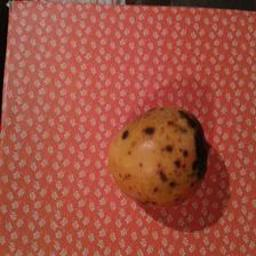Mango Rotten: (90, 98, 230, 208)
